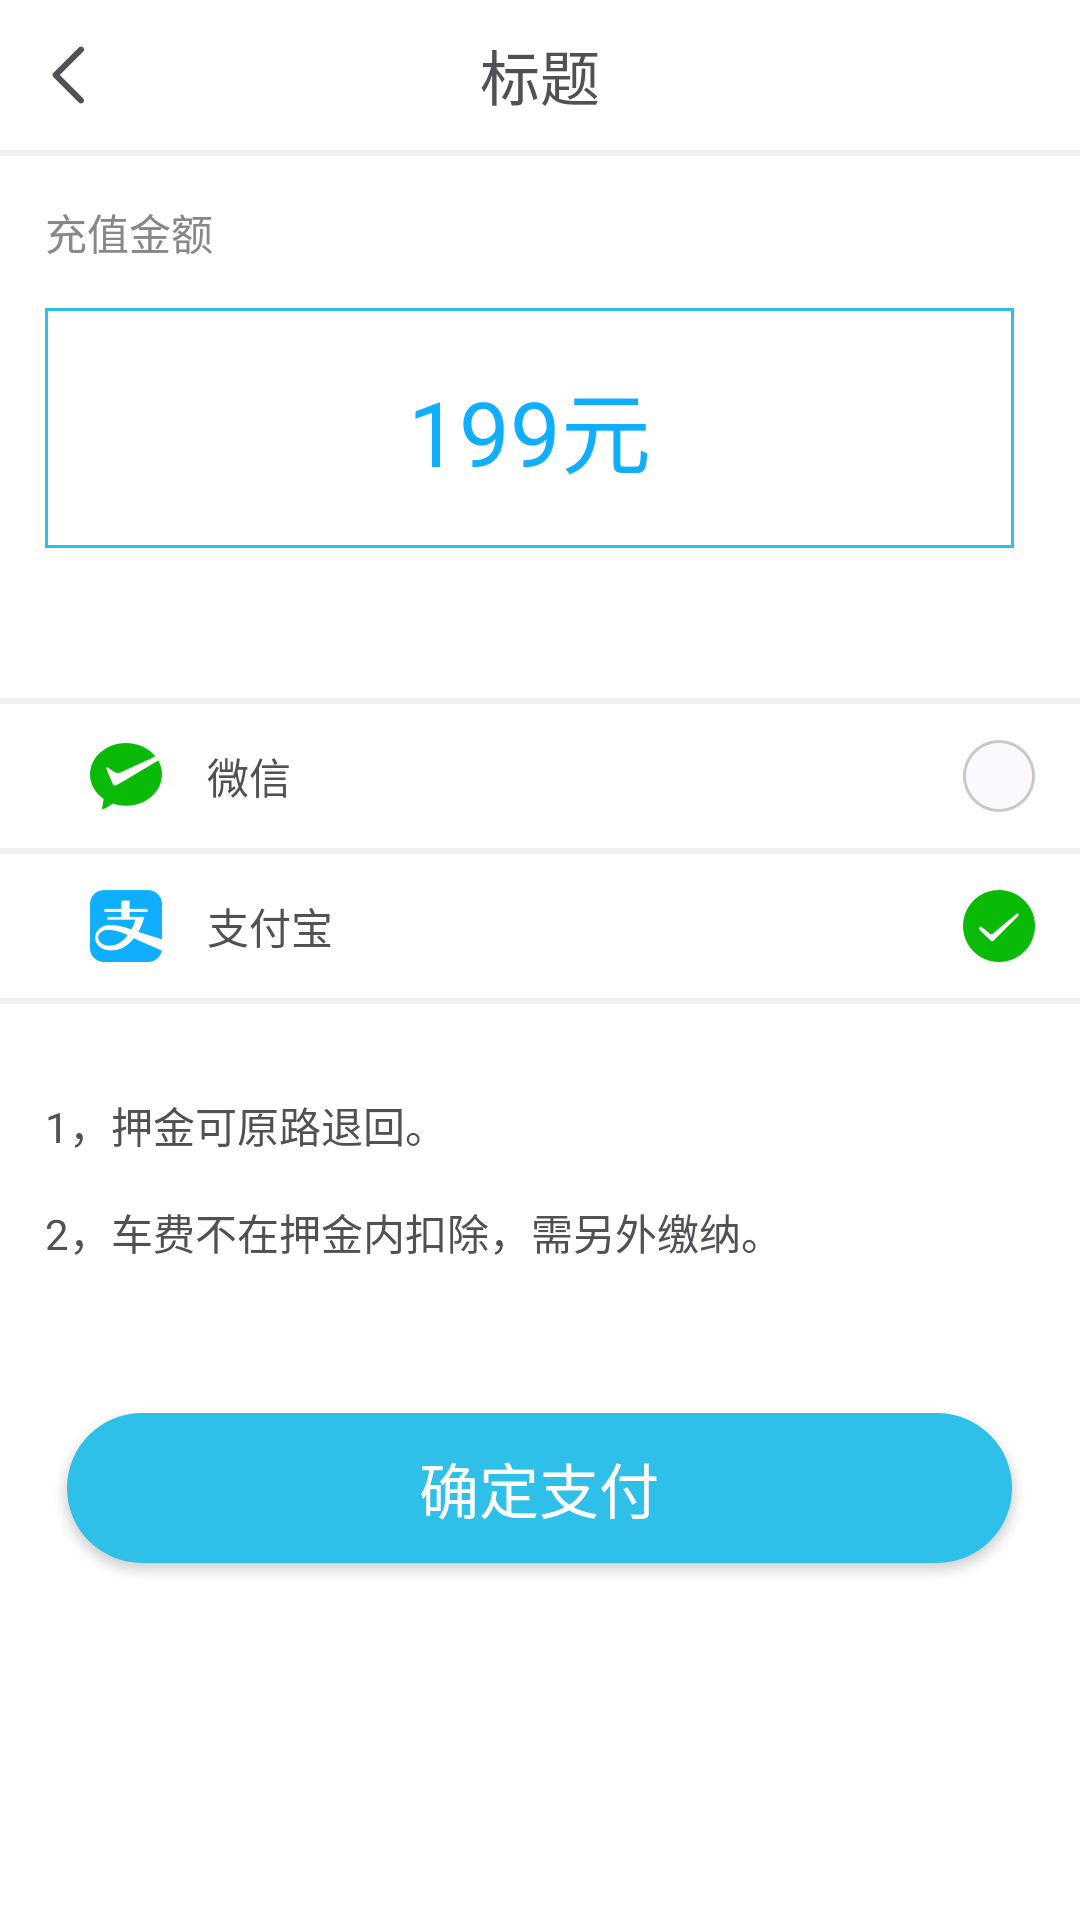

Icon click points for this 1080px x 1920px phone screenshot, format [x,y]:
back: [68,75]
check off: [999,776]
check on: [999,926]
